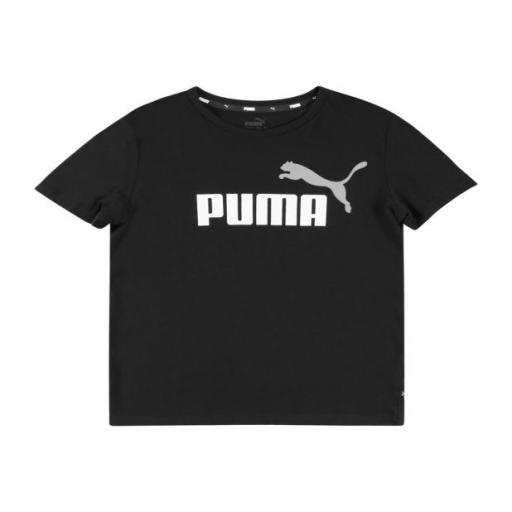Puma: (191, 190, 332, 233), (276, 154, 372, 217)
